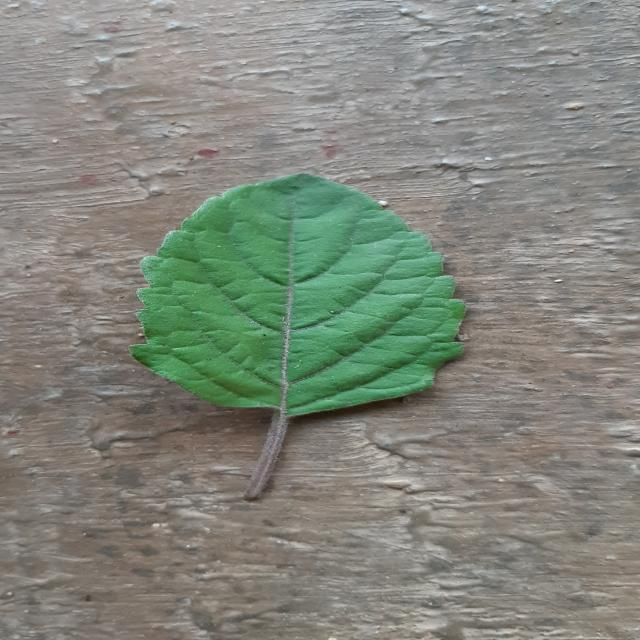tulsi: (130, 174, 463, 498)
